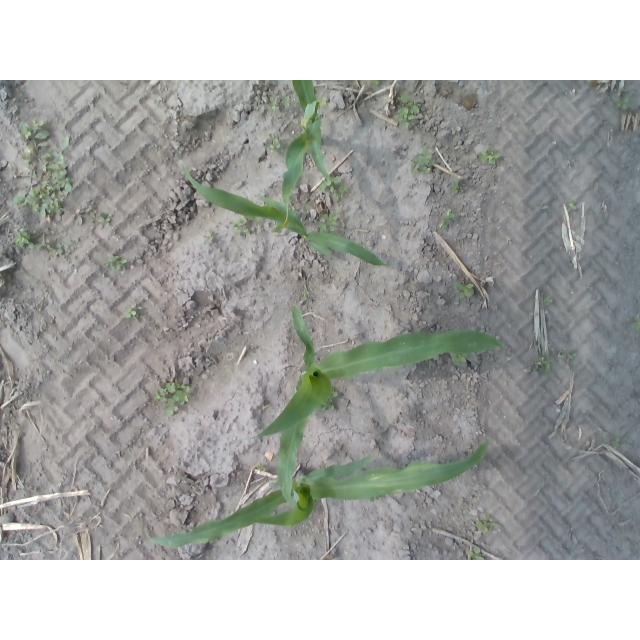Maize: (252, 305, 504, 508), (147, 441, 490, 548), (186, 170, 387, 267), (276, 81, 336, 232)
Weeds: (21, 119, 73, 194), (20, 183, 64, 222), (59, 206, 110, 226), (395, 96, 417, 127), (30, 241, 66, 255), (413, 151, 431, 173), (321, 178, 346, 193), (319, 214, 338, 231), (533, 358, 551, 375), (456, 284, 473, 301), (17, 233, 35, 249), (479, 150, 501, 162), (109, 255, 127, 269), (233, 219, 251, 233), (163, 398, 177, 415), (174, 391, 188, 406), (443, 216, 454, 233), (476, 522, 490, 535), (125, 305, 137, 320), (466, 549, 482, 560), (270, 139, 281, 150), (616, 99, 628, 109), (157, 391, 167, 402), (455, 356, 467, 365), (631, 321, 640, 331), (455, 187, 464, 196), (568, 354, 577, 363), (166, 383, 175, 392), (322, 405, 335, 411), (543, 298, 553, 305), (569, 203, 577, 210), (374, 80, 382, 86)
